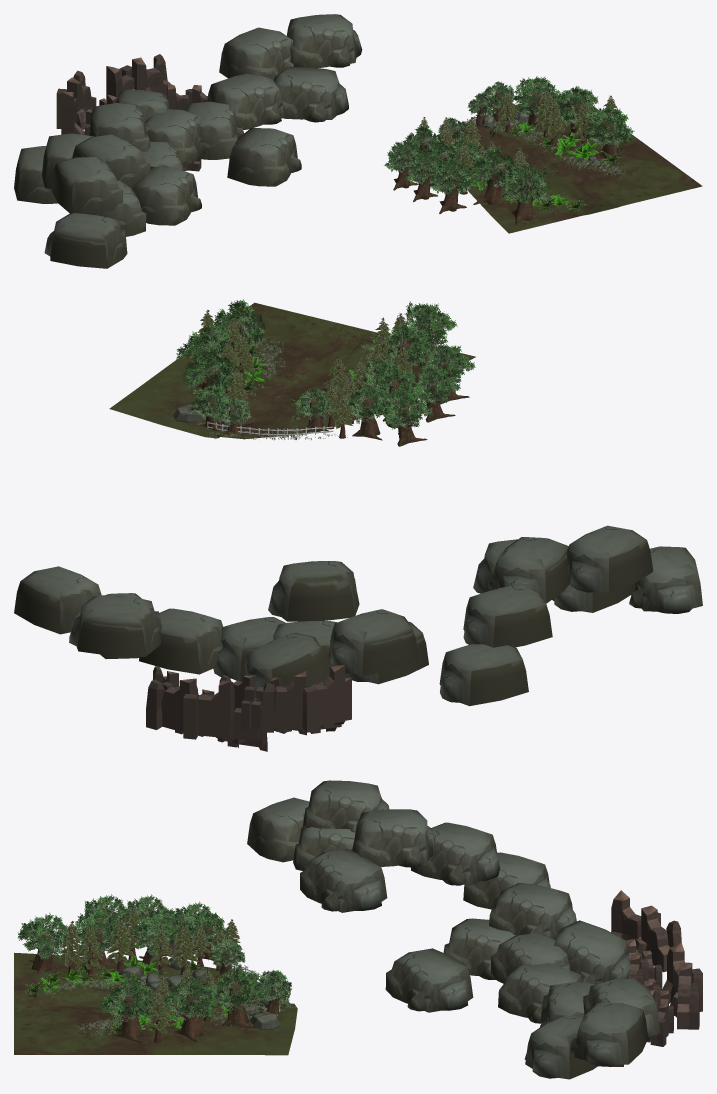
File: hpEnv 2.fbx
3 views of the same model, one above another, from view 1: azimuth 30°, elevation 25°; view 2: azimuth 150°, elevation 25°; view 3: azimuth 270°, elevation 25° (orthographic). The views are drawn at different scales.
Parts seen in each view (by area): view 1: Cube.021, Cube.041, Plane, Cylinder.002, Cylinder.027, Plane.001; view 2: Cube.021, Cube.041, Plane, Cylinder.002, Cylinder.027, Plane.1825; view 3: Cube.021, Cube.041, Cylinder.002, Plane, Cylinder.027, Plane.663.
Boxes of the visible parts, left/top/right/bottom form: Cube.021: left=56, top=14, right=362, bottom=186; Cube.041: left=14, top=133, right=201, bottom=268; Plane: left=458, top=98, right=702, bottom=233; Cylinder.002: left=384, top=117, right=585, bottom=224; Cylinder.027: left=467, top=76, right=634, bottom=164; Plane.001: left=487, top=124, right=611, bottom=169; Cube.021: left=14, top=561, right=428, bottom=751; Cube.041: left=439, top=525, right=702, bottom=706; Plane: left=109, top=302, right=475, bottom=439; Cylinder.002: left=290, top=301, right=475, bottom=446; Cylinder.027: left=173, top=299, right=269, bottom=435; Plane.1825: left=205, top=337, right=321, bottom=440; Cube.021: left=385, top=883, right=702, bottom=1079; Cube.041: left=247, top=780, right=550, bottom=912; Cylinder.002: left=17, top=894, right=252, bottom=994; Plane: left=14, top=952, right=297, bottom=1055; Cylinder.027: left=100, top=964, right=291, bottom=1043; Plane.663: left=44, top=963, right=277, bottom=1037.
Size of the model in its own units: 4396 by 1388 by 4566.
